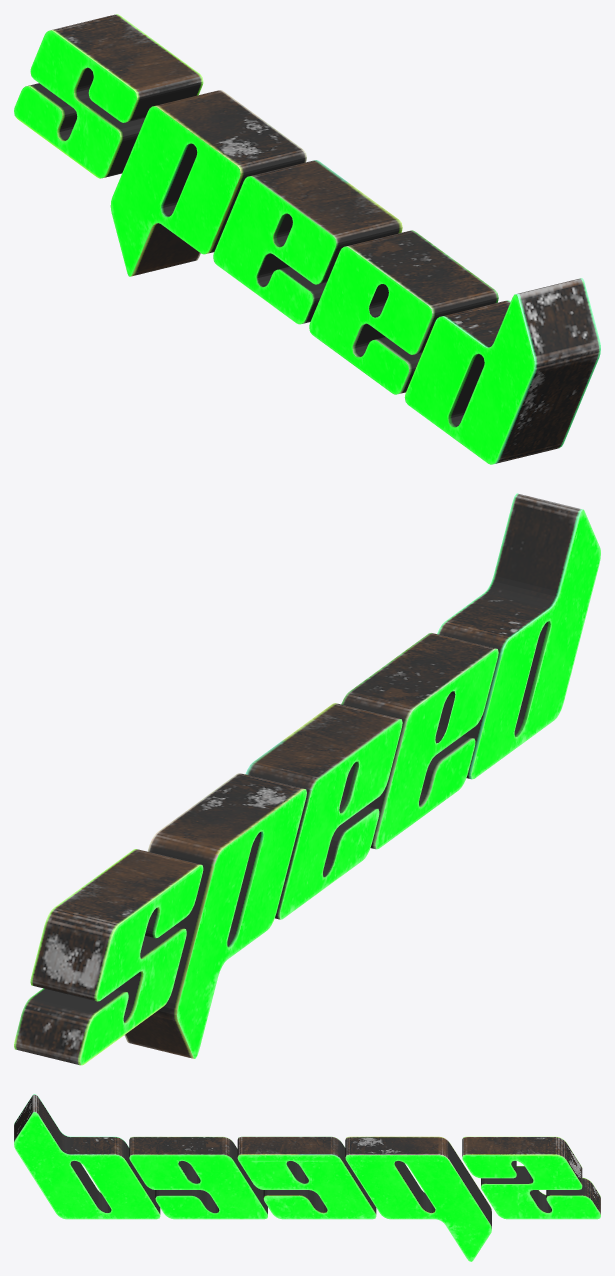
File: SM_NeonLetters_003.fbx
The picture shows the model from 3 angles, top to bottom: view 1: azimuth 30°, elevation 25°; view 2: azimuth 150°, elevation 25°; view 3: azimuth 270°, elevation 25°; orthographic projection. The views are drawn at different scales.
Parts seen in each view (by area): view 1: SM_NeonLetters_003_LOD0; view 2: SM_NeonLetters_003_LOD0; view 3: SM_NeonLetters_003_LOD0.
Boxes of the visible parts, bbox=[...] form: SM_NeonLetters_003_LOD0: bbox=[14, 14, 600, 464]; SM_NeonLetters_003_LOD0: bbox=[14, 493, 600, 1065]; SM_NeonLetters_003_LOD0: bbox=[14, 1094, 600, 1261].
Size of the model in its own units: 19.5 by 265 by 74.61.
1 material, 1 textured.
